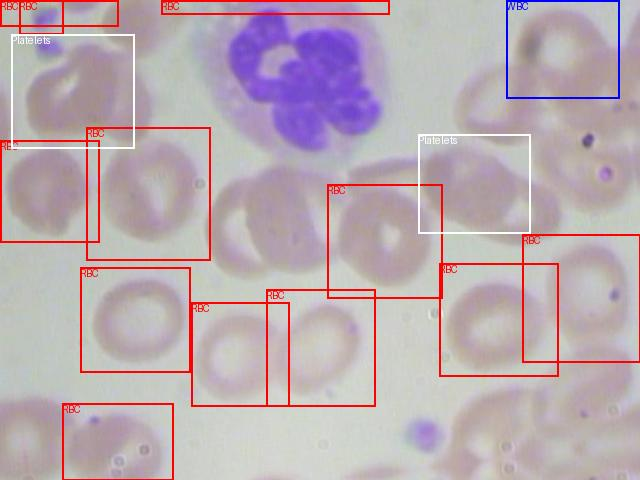Platelets: (11, 34, 134, 148), (418, 134, 530, 233)
RBC: (86, 127, 210, 260), (522, 234, 640, 362), (439, 263, 558, 376), (327, 184, 442, 298), (266, 289, 375, 406), (80, 267, 190, 372), (191, 302, 289, 406), (0, 140, 99, 242), (62, 403, 173, 480), (161, 0, 389, 14), (0, 0, 118, 26), (19, 0, 63, 34)
WBC: (506, 0, 619, 98)
